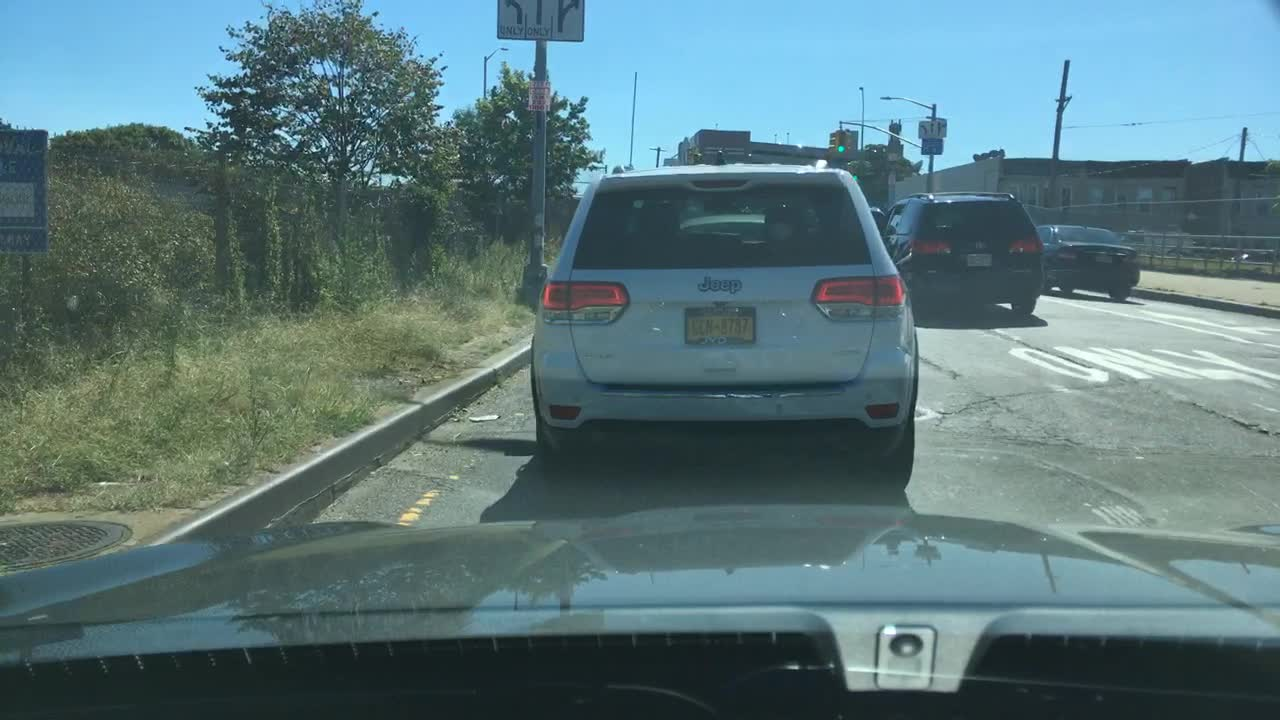car: (526, 159, 920, 498), (879, 189, 1047, 315), (1033, 222, 1142, 300), (1225, 244, 1278, 265)
traffic light: (834, 128, 848, 154), (846, 131, 858, 149), (825, 130, 836, 147)
traffic sign: (0, 132, 51, 257), (493, 0, 583, 41), (524, 81, 552, 109), (916, 118, 947, 138), (919, 138, 944, 154)
truck: (1121, 229, 1201, 258)
